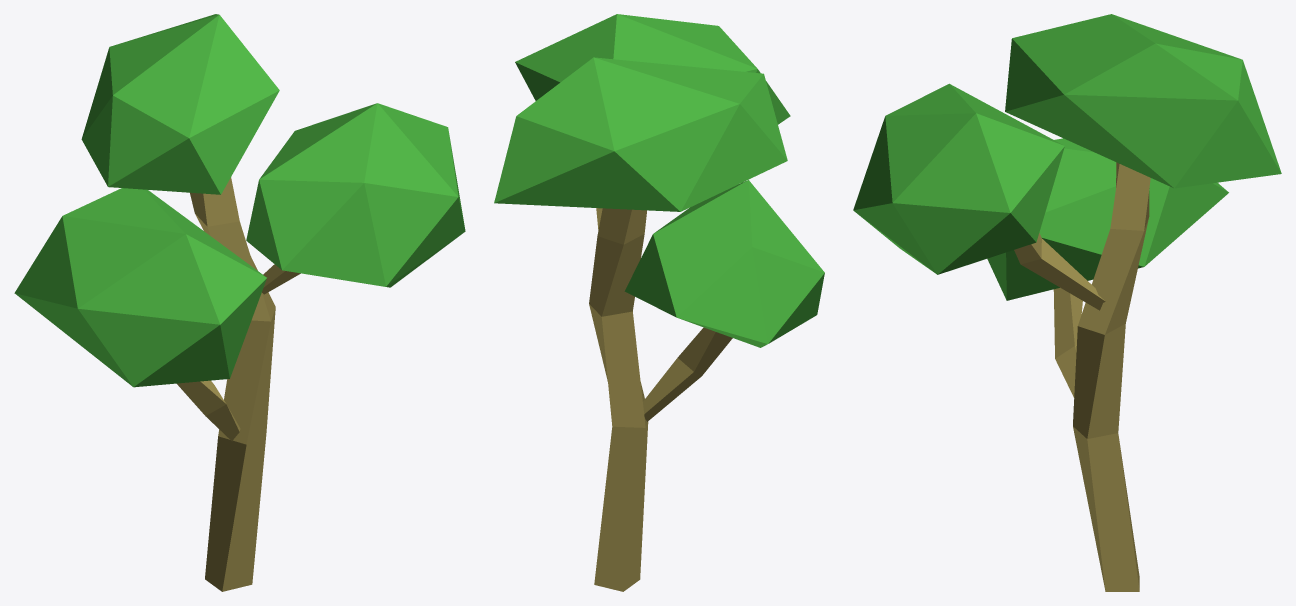
Rendered from MapleTree_4.fbx.
3 views of the same model, side by side, from view 1: azimuth 30°, elevation 25°; view 2: azimuth 150°, elevation 25°; view 3: azimuth 270°, elevation 25° (orthographic). The views are drawn at different scales.
Parts seen in each view (by area): view 1: Leaves, Leaves.001, Leaves.002, Trunk, Trunk.002; view 2: Leaves.002, Leaves, Trunk, Leaves.001, Trunk.002; view 3: Leaves.002, Leaves.001, Trunk, Leaves, Trunk.001, Trunk.002.
Part boxes in pixels (x1=…): Leaves: x1=14, y1=188, x2=266, y2=387; Leaves.001: x1=246, y1=103, x2=465, y2=287; Leaves.002: x1=81, y1=14, x2=279, y2=194; Trunk: x1=190, y1=177, x2=275, y2=591; Trunk.002: x1=177, y1=380, x2=240, y2=441; Leaves.002: x1=494, y1=57, x2=787, y2=211; Leaves: x1=624, y1=180, x2=824, y2=347; Trunk: x1=589, y1=208, x2=648, y2=591; Leaves.001: x1=515, y1=14, x2=790, y2=124; Trunk.002: x1=643, y1=327, x2=732, y2=421; Leaves.002: x1=1005, y1=14, x2=1281, y2=188; Leaves.001: x1=853, y1=83, x2=1064, y2=274; Trunk: x1=1073, y1=162, x2=1150, y2=591; Leaves: x1=987, y1=138, x2=1228, y2=300; Trunk.001: x1=1014, y1=233, x2=1105, y2=310; Trunk.002: x1=1053, y1=287, x2=1082, y2=397.
Bounding box in the file's own units: 216 × 328 × 234.
